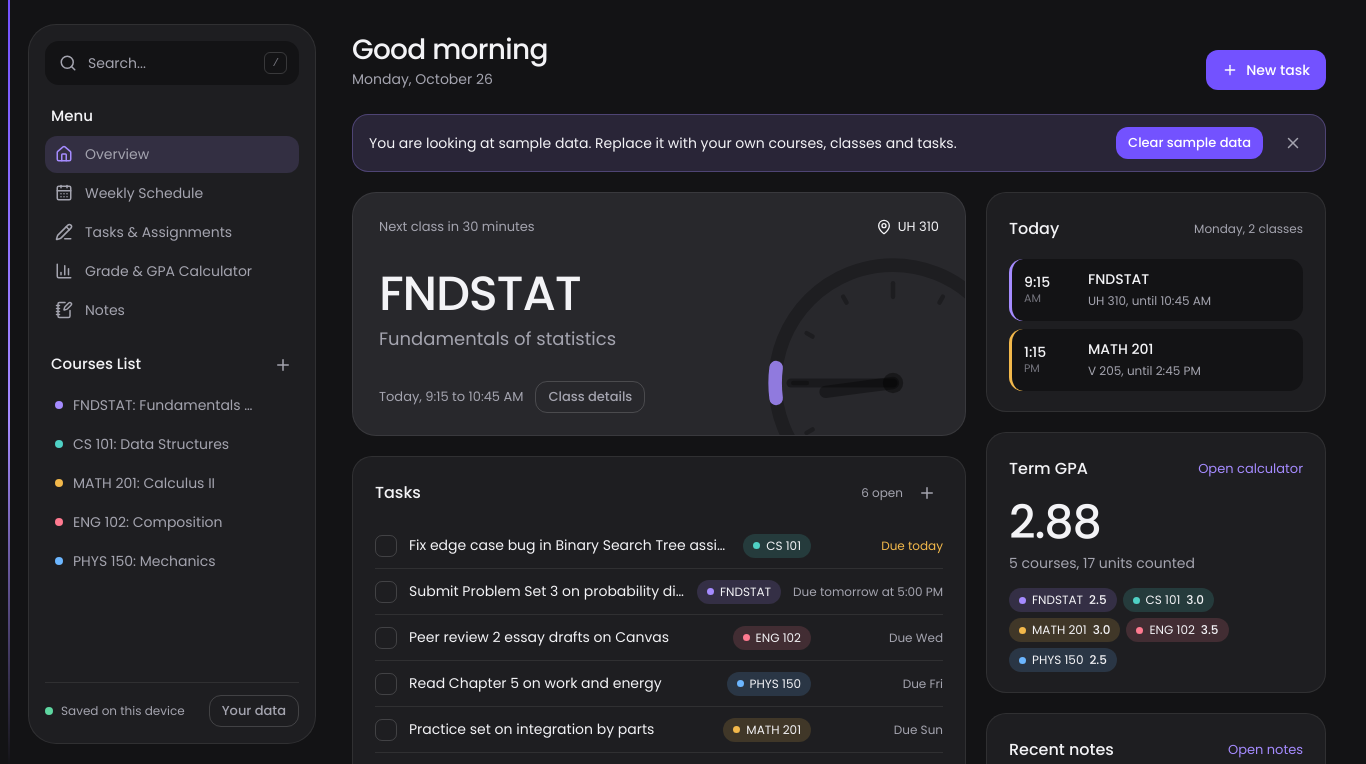
Test: Schedule › draws classes on the grid and opens the drawer with notes for that class
The width and height of the screenshot is (1366, 764).
Click the link "Weekly Schedule" at (129, 192), box [55,182,203,202]
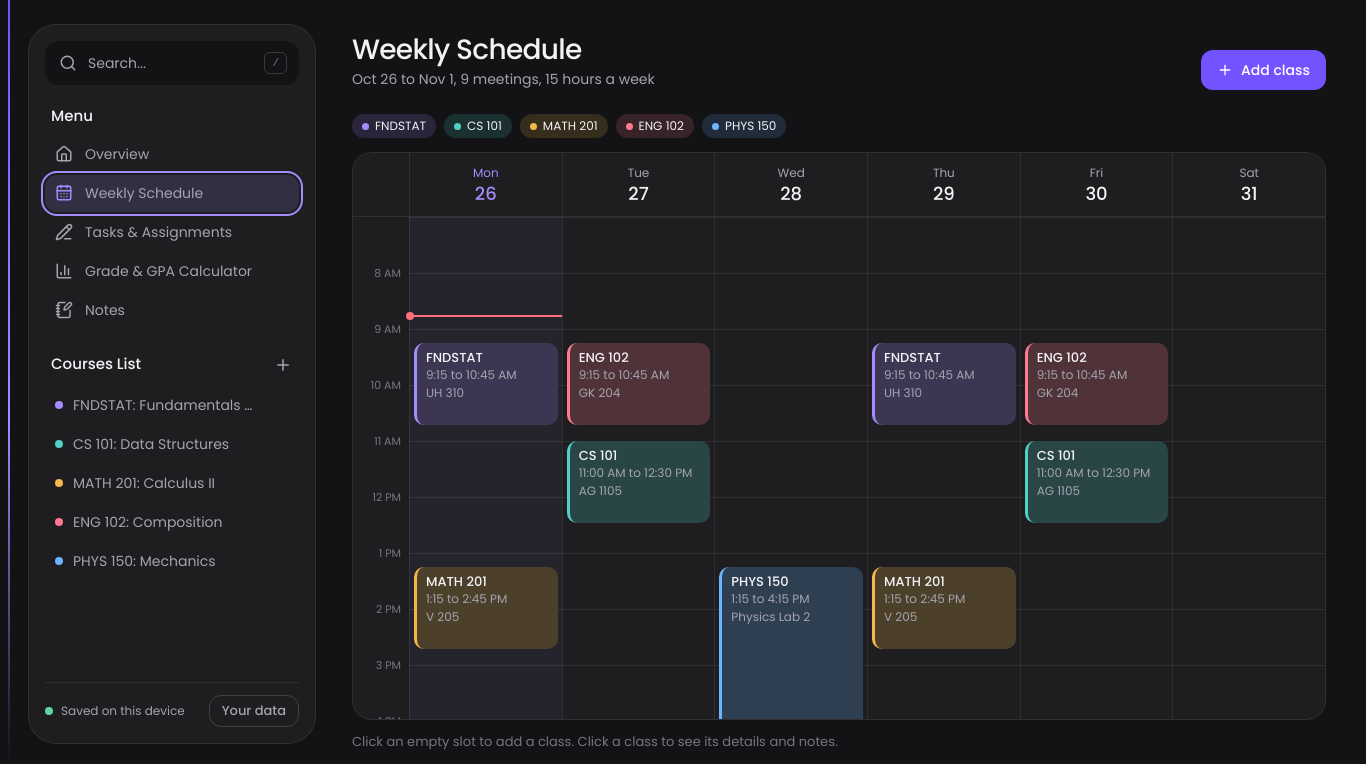
Click the button with aria-label "FNDSTAT, 9:15 to 10:45 AM, UH 310" at (486, 384), box [414,342,558,424]
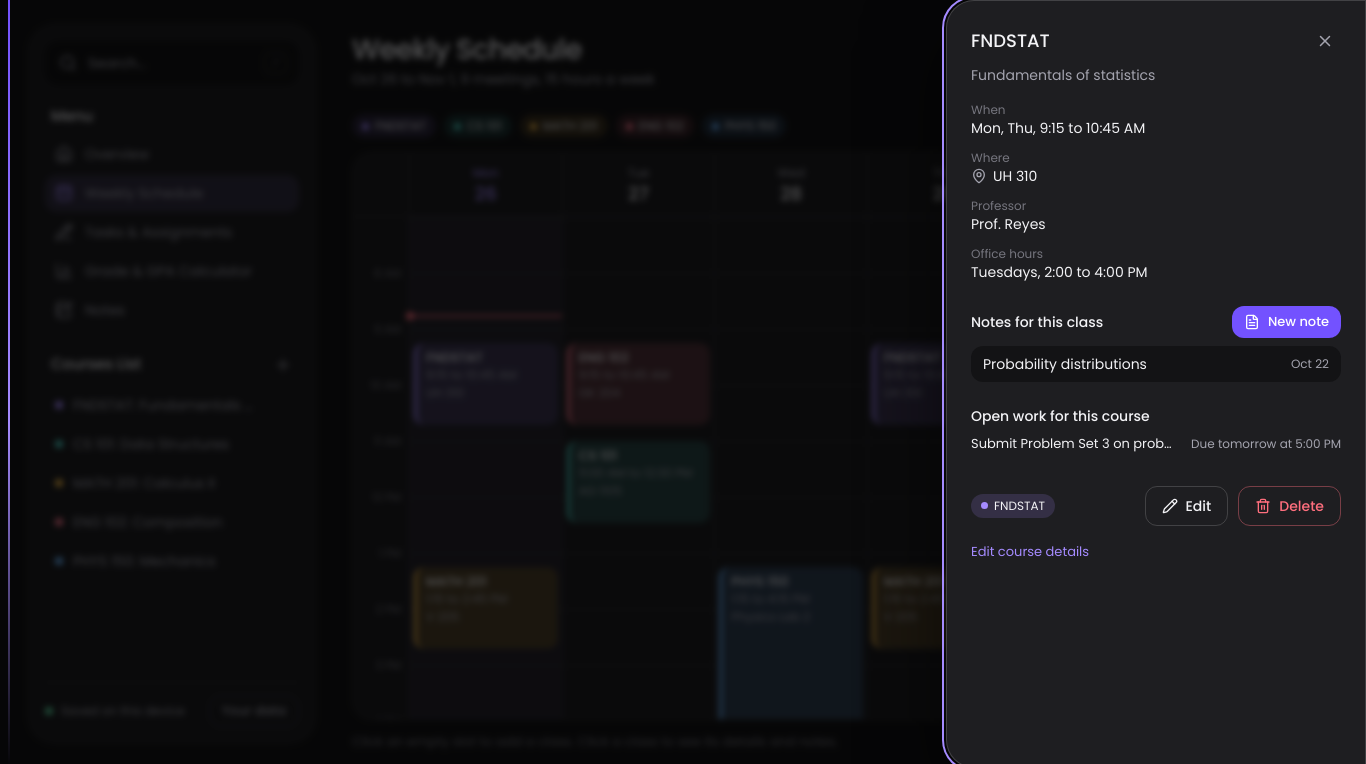
Check: the text "Mon, Thu, 9:15 to 10:45 AM" is shown, box [971,118,1145,138]
Check: the text "Probability distributions" is shown, box [983,354,1147,374]
Check: the text "Prof. Reyes" is shown, box [971,214,1046,234]
